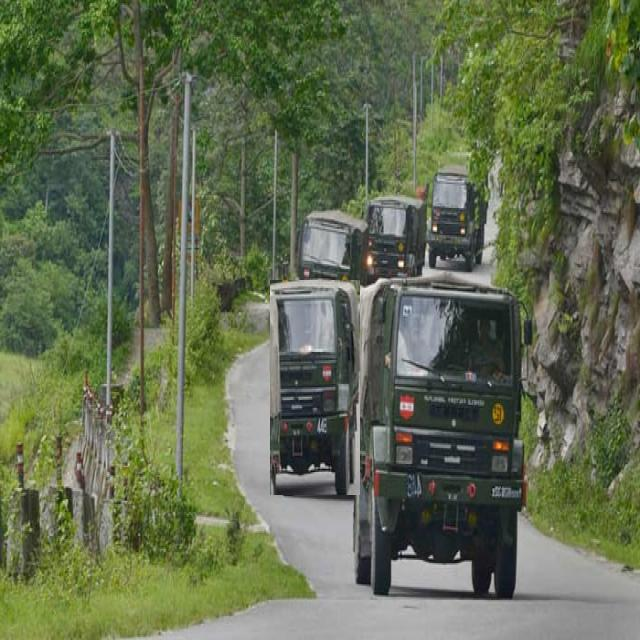truck: (350, 278, 526, 596), (270, 280, 360, 495), (428, 168, 488, 269), (365, 195, 426, 281), (298, 210, 368, 284)
